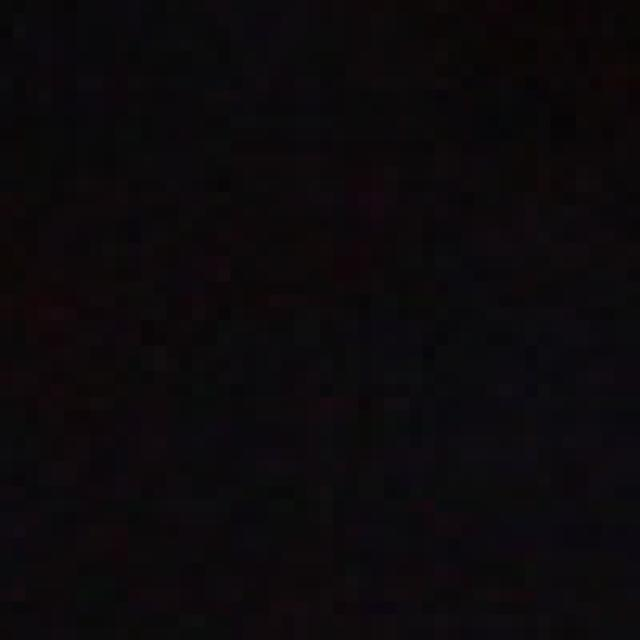no_fire: (21, 0, 640, 618)
